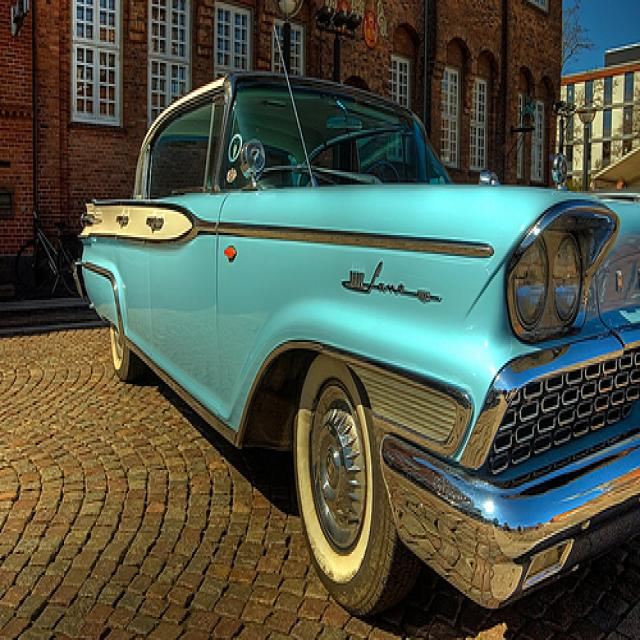Car: (82, 63, 640, 614)
